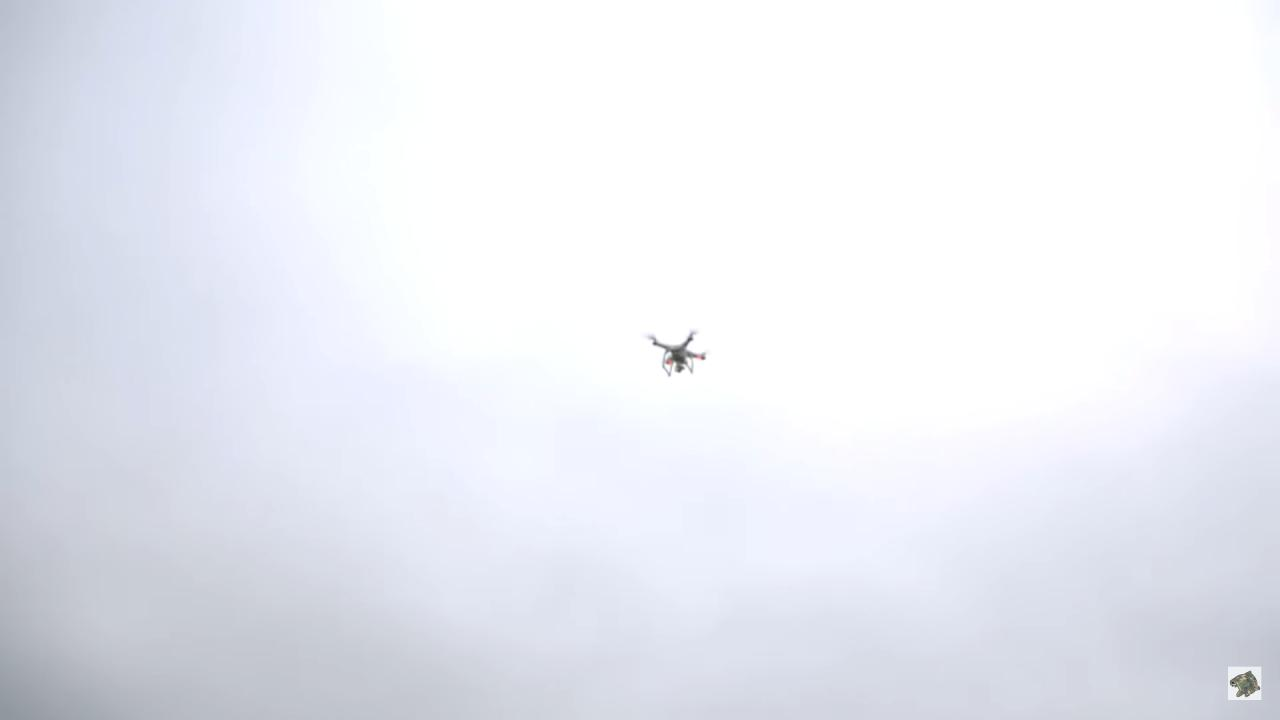Drone: (638, 319, 716, 387)
